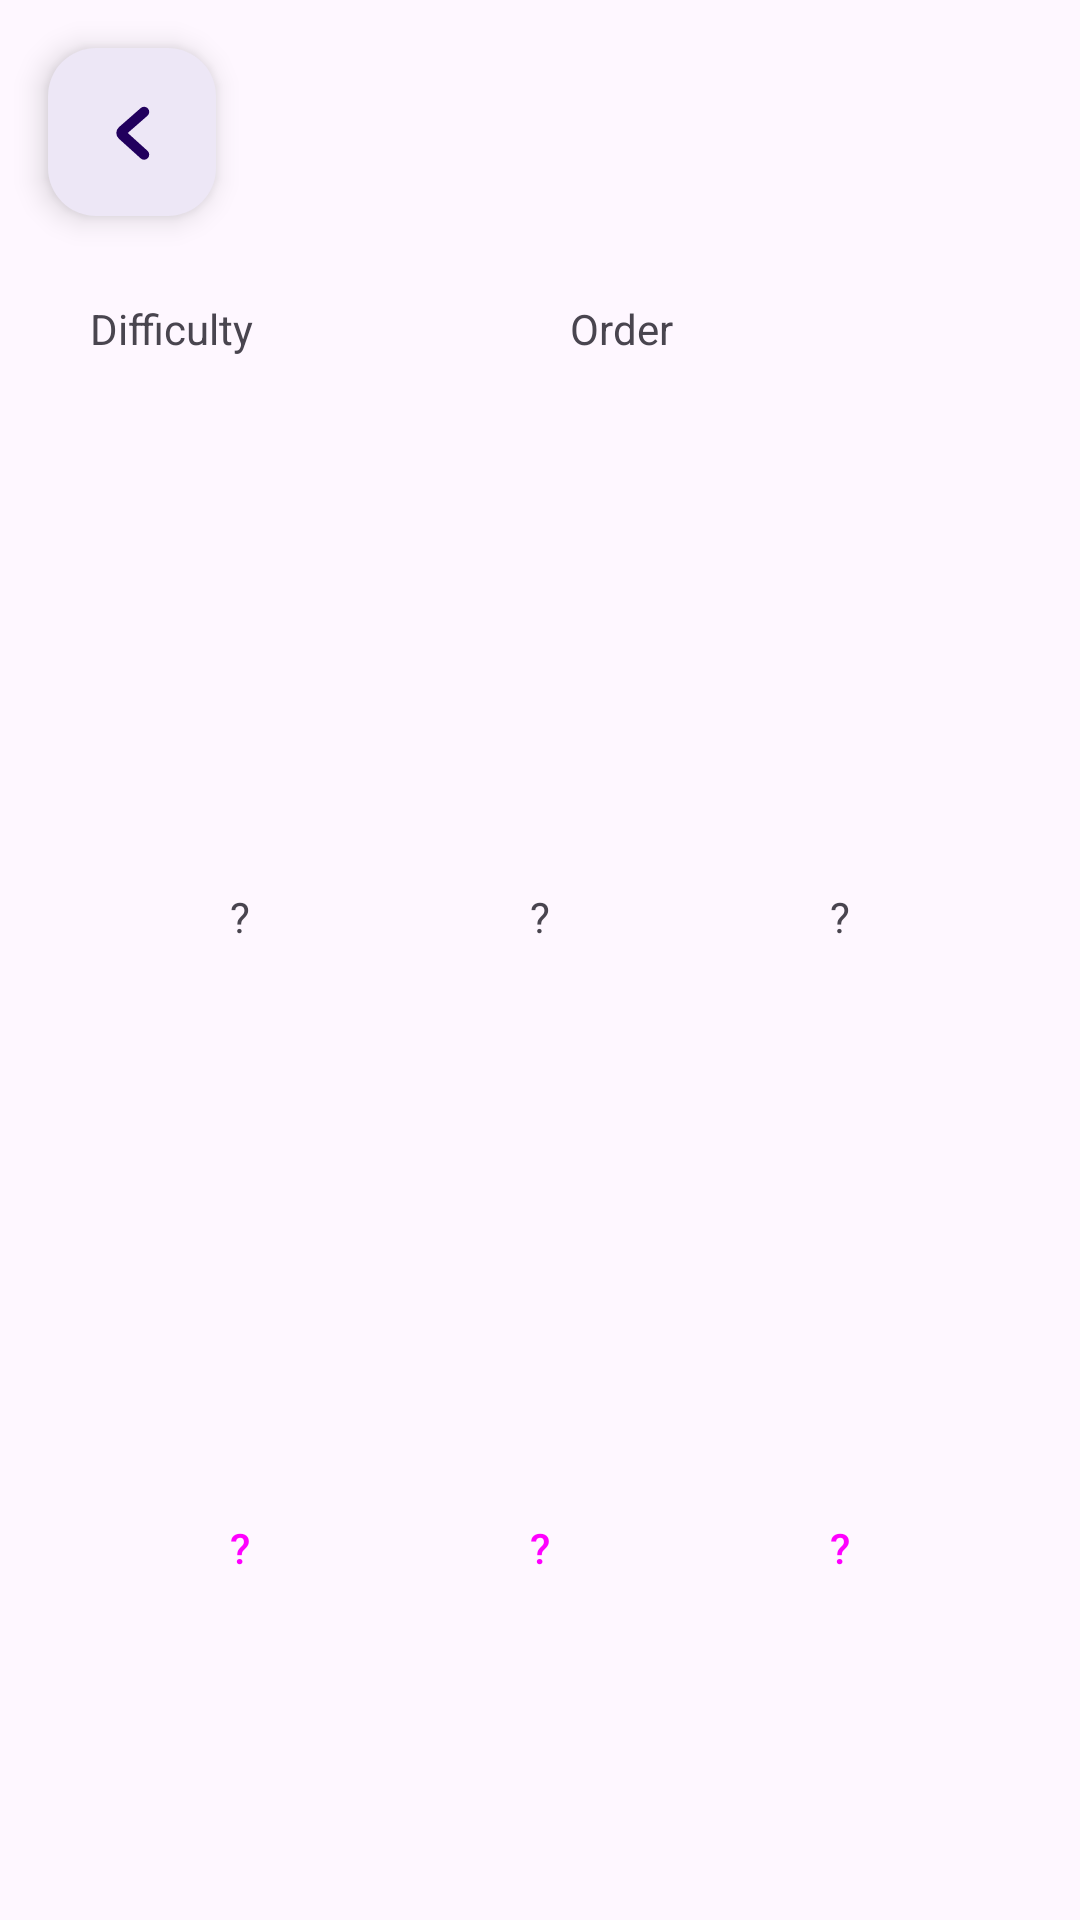

Named icons in this screenshot (1080*1920) and their centers, (x,y):
Return to Home: (133,133)
